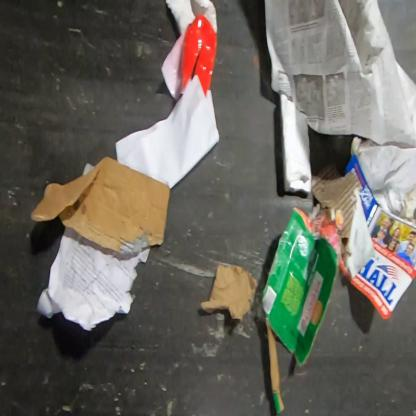cardboard: (259, 206, 347, 415), (29, 155, 171, 254), (311, 160, 376, 280), (349, 136, 415, 226), (199, 262, 259, 321), (164, 0, 218, 34)
rigid_plastic: (160, 12, 218, 102)
